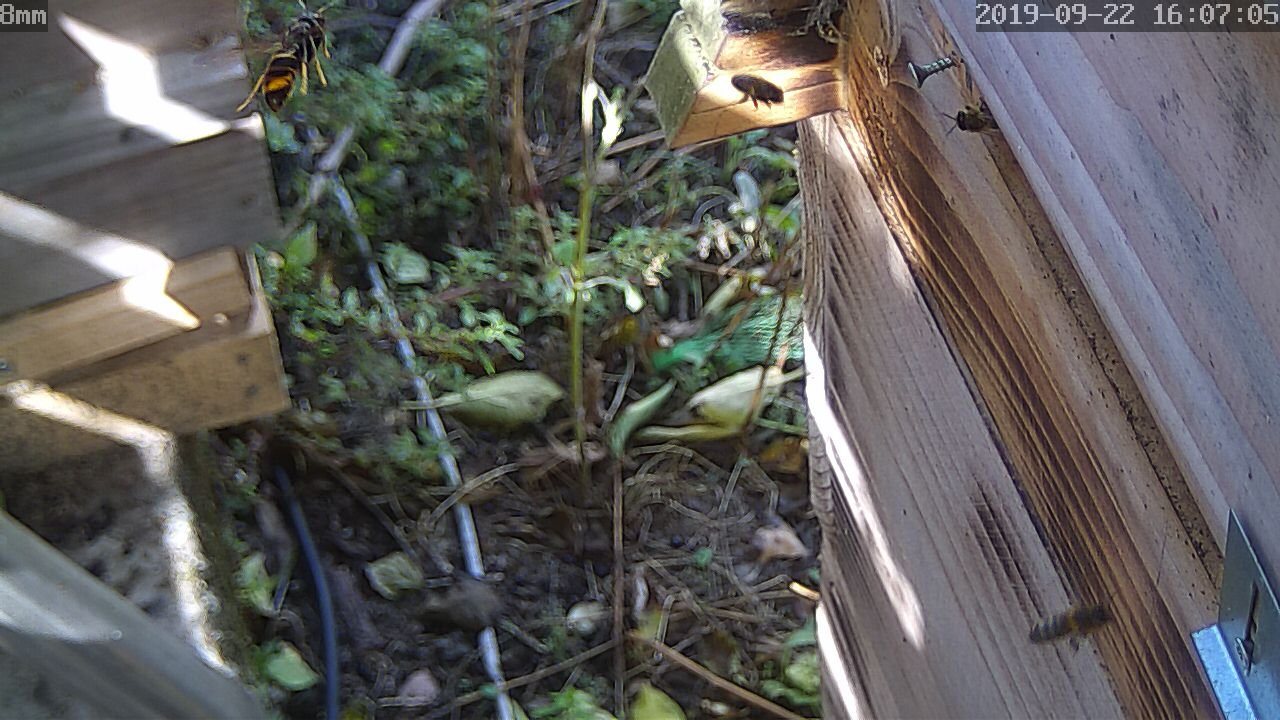bee: (1030, 595, 1114, 662), (718, 69, 793, 116), (939, 100, 1003, 148)
hornet: (240, 1, 331, 117)
